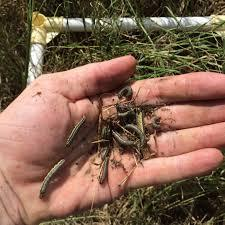fallarmy_worm: (32, 157, 67, 205), (58, 114, 89, 147), (110, 130, 136, 150), (116, 85, 138, 103), (114, 109, 141, 121), (98, 156, 109, 184), (148, 116, 162, 131)
